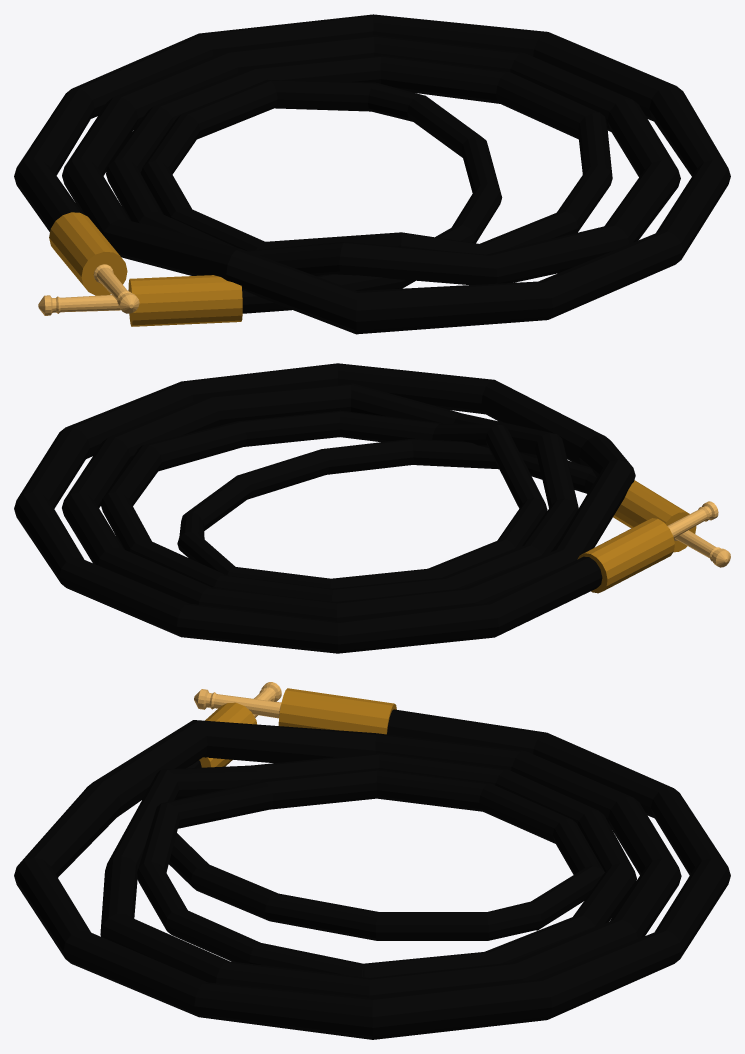
The model's file is GuitarCable.fbx.
3 renders of one model, top to bottom at view 1: azimuth 30°, elevation 25°; view 2: azimuth 150°, elevation 25°; view 3: azimuth 270°, elevation 25°, orthographic. The views are drawn at different scales.
Visible parts, largest first — view 1: Electrical Cable; view 2: Electrical Cable; view 3: Electrical Cable.
Part boxes in pixels (<box>): Electrical Cable: <box>14,14,730,334</box>; Electrical Cable: <box>14,363,730,653</box>; Electrical Cable: <box>14,682,730,1039</box>.
Bounding box in the file's own units: 49.22 × 4.55 × 43.94.
